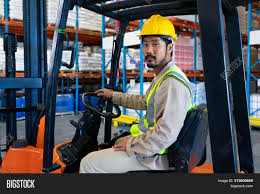Person_wearing_helmet: (134, 13, 177, 49)
